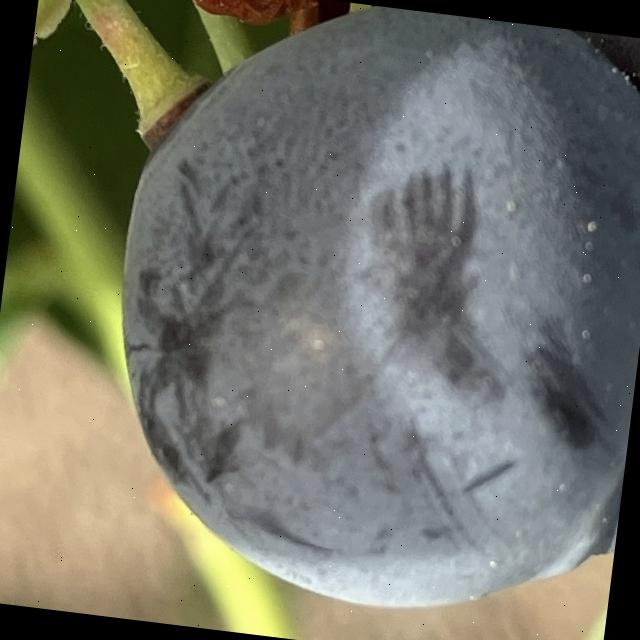Blueberries: (74, 0, 640, 639)
